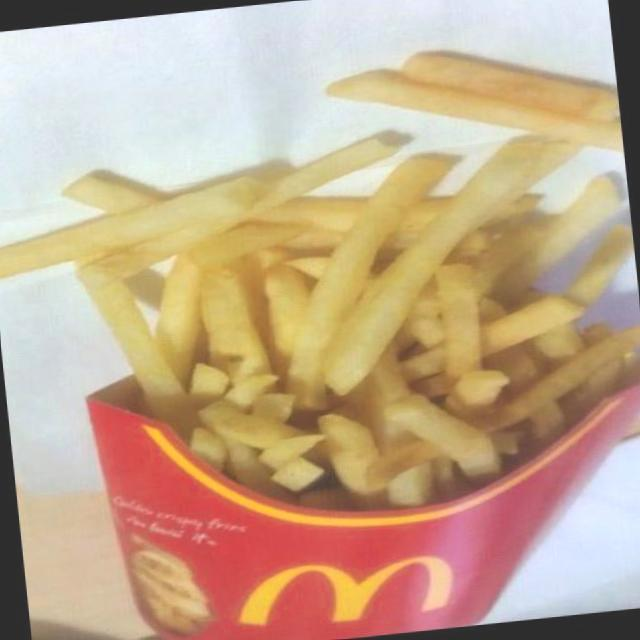French Fries: (0, 38, 640, 558)
